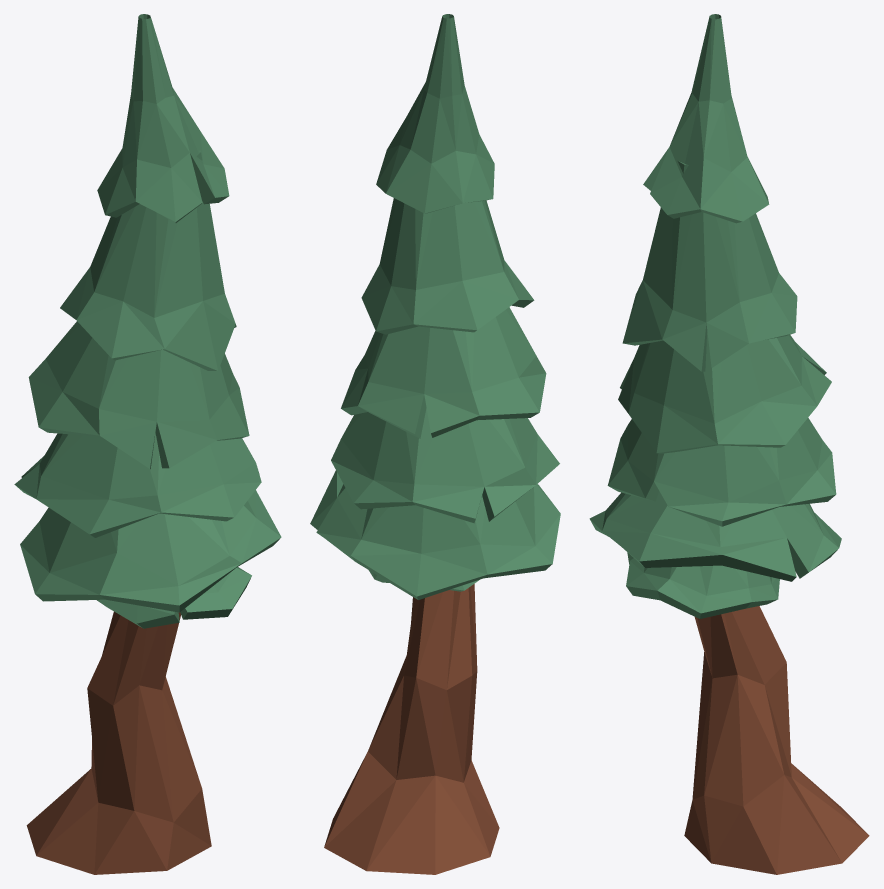
Rendered from A_Arvore3.fbx.
3 views of the same model, side by side, from view 1: azimuth 30°, elevation 25°; view 2: azimuth 150°, elevation 25°; view 3: azimuth 270°, elevation 25° (orthographic). The views are drawn at different scales.
Parts seen in each view (by area): view 1: Circle; view 2: Circle; view 3: Circle.
Part boxes in pixels (box(x1,y1,x2,y2)): Circle: box(14, 14, 281, 874); Circle: box(310, 14, 560, 874); Circle: box(589, 14, 869, 874).
Bounding box in the file's own units: 452 × 1630 × 507.
